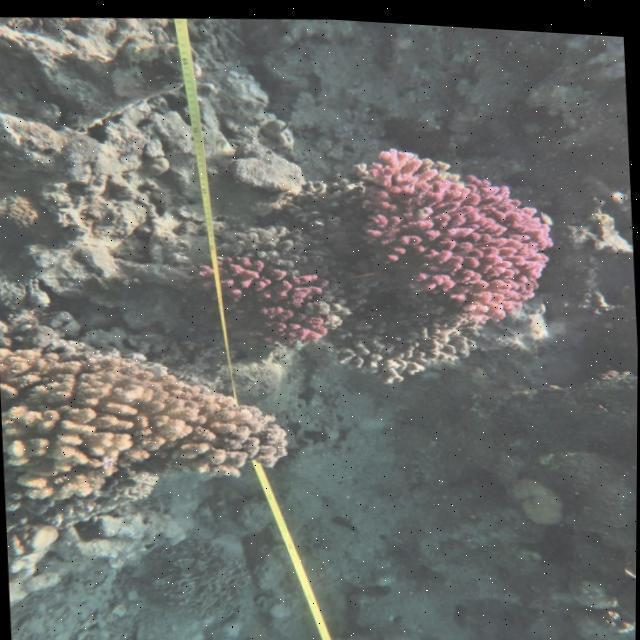Healthy Coral: (0, 341, 295, 496), (360, 143, 550, 325), (325, 285, 477, 388), (202, 245, 328, 359)
